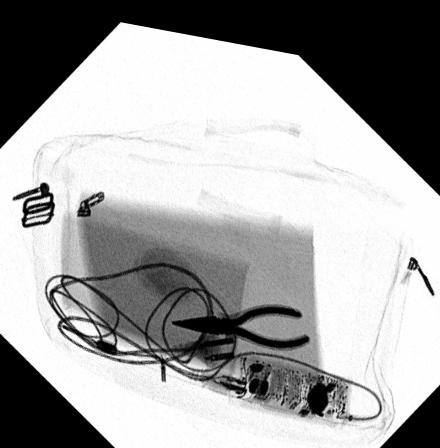Pliers: (169, 291, 311, 338)
